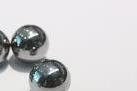ironball: (12, 21, 50, 65), (29, 58, 74, 90), (0, 26, 13, 68)
